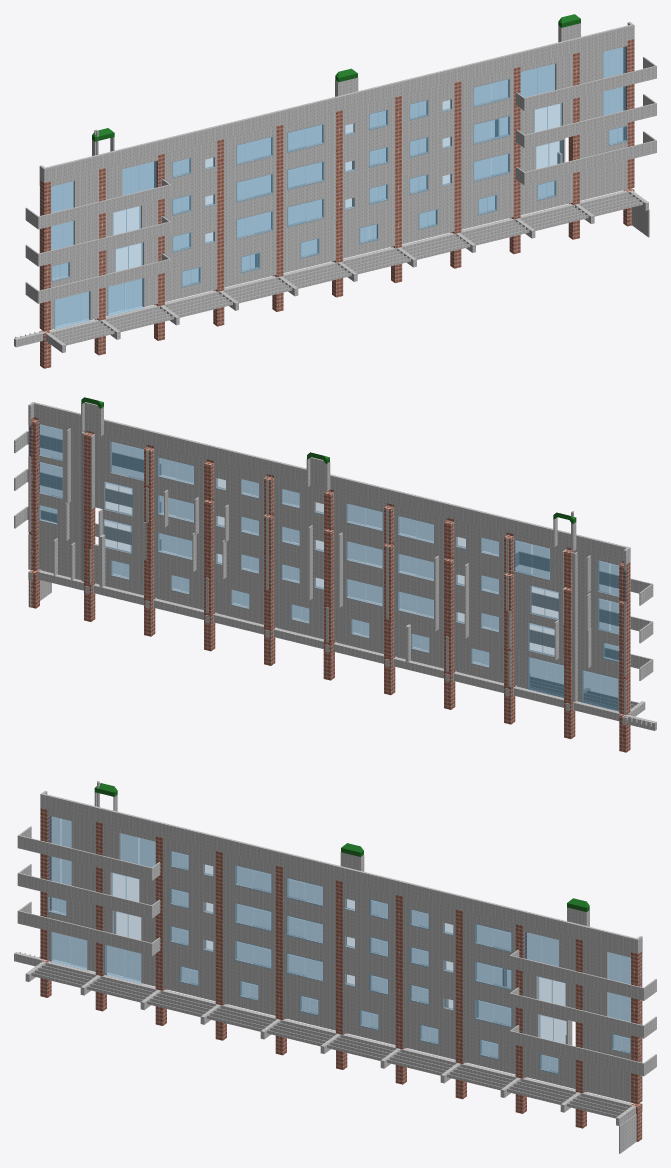
The picture shows the model from 3 angles, top to bottom: view 1: azimuth 30°, elevation 25°; view 2: azimuth 150°, elevation 25°; view 3: azimuth 330°, elevation 25°; orthographic projection.
Visible parts, largest first — view 1: object 4, M_Cubrejuntas-Ventana-Interior-Plano Marco de cuadro [275377, object 3, Balconera corredera, 2 hojas 2400 x 2250mm [337480]_Vidrio.0, object 2; view 2: object 4, M_Cubrejuntas-Ventana-Interior-Plano Marco de cuadro [275377, object 3, Balconera corredera, 2 hojas 2400 x 2250mm [337480]_Vidrio.0; view 3: object 4, M_Cubrejuntas-Ventana-Interior-Plano Marco de cuadro [275377, object 3, Balconera corredera, 2 hojas 2400 x 2250mm [337480]_Vidrio.0, object 2.
Boxes of the visible parts, x1,y1,x2,y2 form: object 4: (14, 22, 656, 352); M_Cubrejuntas-Ventana-Interior-Plano Marco de cuadro [275377: (40, 46, 627, 329); object 3: (40, 39, 634, 368); Balconera corredera, 2 hojas 2400 x 2250mm [337480]_Vidrio.0: (113, 103, 562, 271); object 2: (92, 14, 580, 141); object 4: (14, 402, 656, 730); M_Cubrejuntas-Ventana-Interior-Plano Marco de cuadro [275377: (28, 424, 626, 711); object 3: (28, 417, 630, 752); Balconera corredera, 2 hojas 2400 x 2250mm [337480]_Vidrio.0: (103, 481, 558, 656); object 4: (14, 781, 656, 1153); M_Cubrejuntas-Ventana-Interior-Plano Marco de cuadro [275377: (47, 816, 642, 1074); object 3: (40, 808, 642, 1141); Balconera corredera, 2 hojas 2400 x 2250mm [337480]_Vidrio.0: (112, 872, 566, 1043); object 2: (94, 783, 589, 911).
Size of the model in its own units: 0.5329 by 0.18 by 0.0306.
5 materials, 2 textured.
